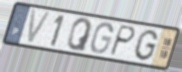1: (49, 14, 66, 48)
G: (132, 28, 160, 62), (90, 22, 115, 55)
P: (107, 24, 137, 58)
Q: (65, 17, 93, 53)
V: (25, 8, 53, 45)
